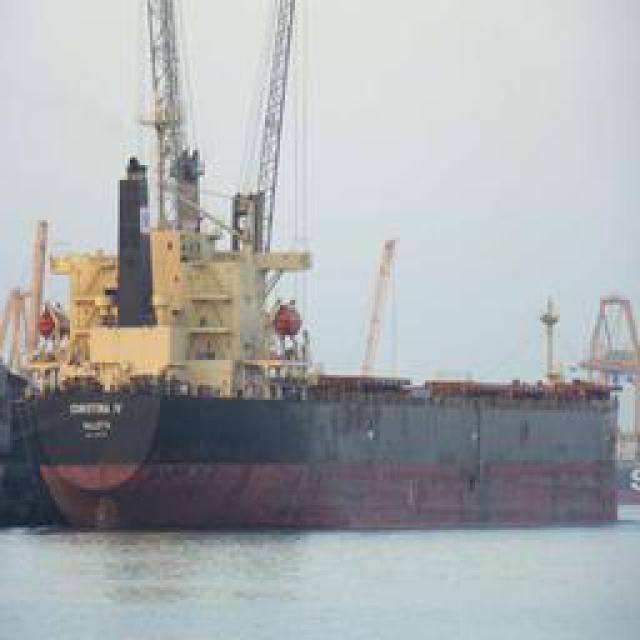Ship: (9, 234, 634, 534)
